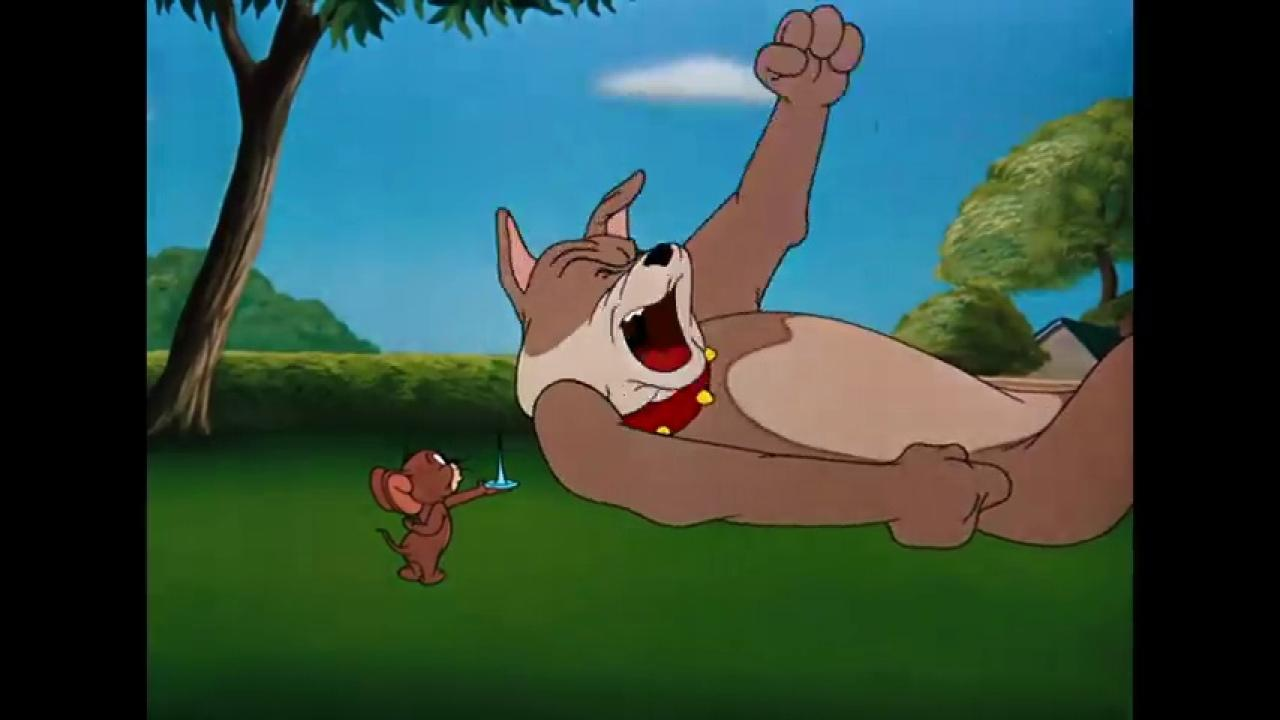Jerry: (368, 444, 500, 586)
